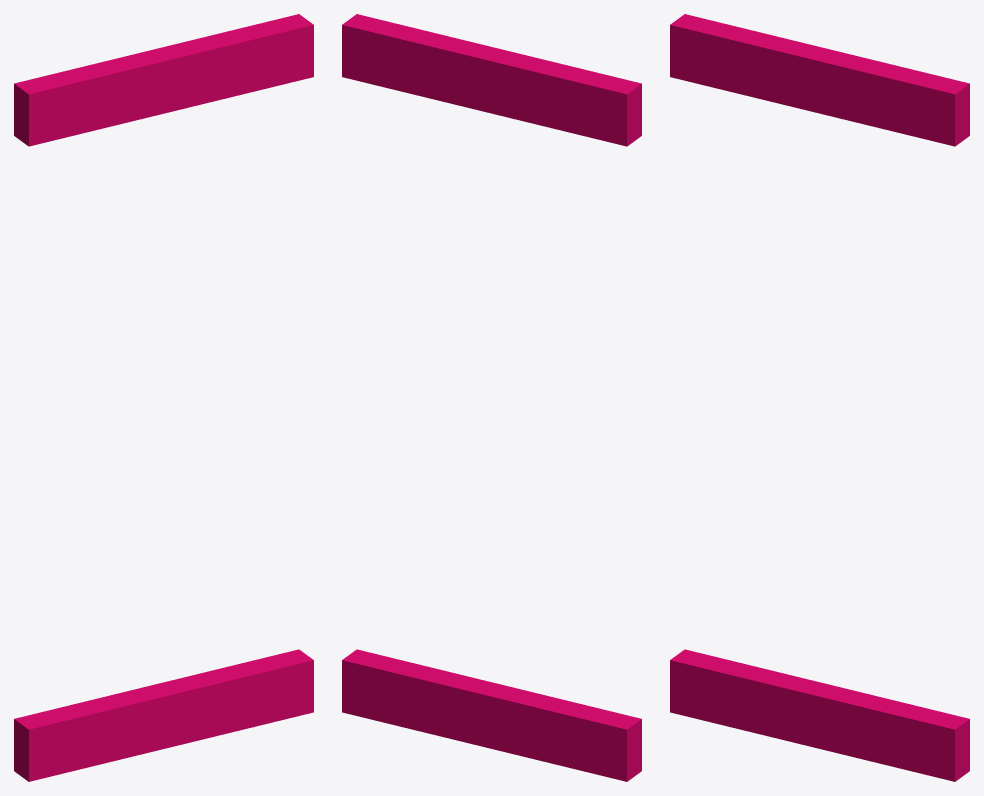
Rendered from Commercials_Bilboard_08B_Lod.fbx.
The picture shows the model from 3 angles, left to right: view 1: azimuth 30°, elevation 25°; view 2: azimuth 150°, elevation 25°; view 3: azimuth 330°, elevation 25°; orthographic projection.
Visible parts, largest first — view 1: Commercials_Bilboard_08B_Lod; view 2: Commercials_Bilboard_08B_Lod; view 3: Commercials_Bilboard_08B_Lod.
Boxes of the visible parts, x1,y1,x2,y2 form: Commercials_Bilboard_08B_Lod: (14,14,313,781); Commercials_Bilboard_08B_Lod: (342,14,641,781); Commercials_Bilboard_08B_Lod: (670,14,969,781).
Bounding box in the file's own units: 22.26 × 51.29 × 2.
